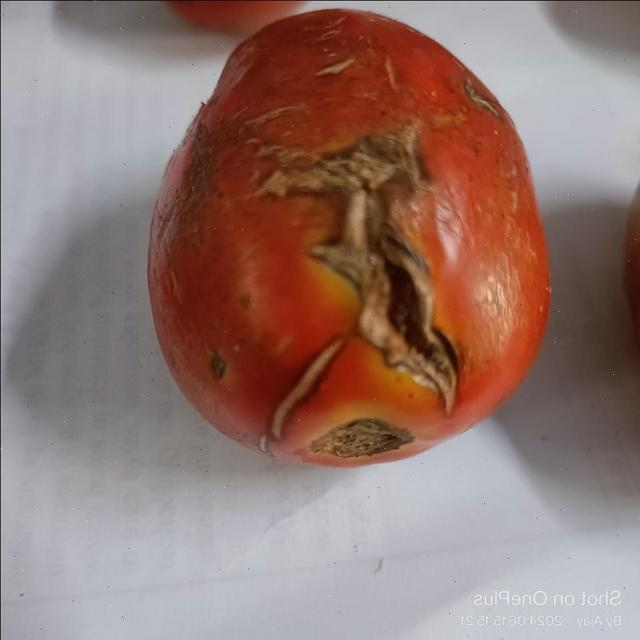Cracking Fruit: (47, 64, 262, 202)
